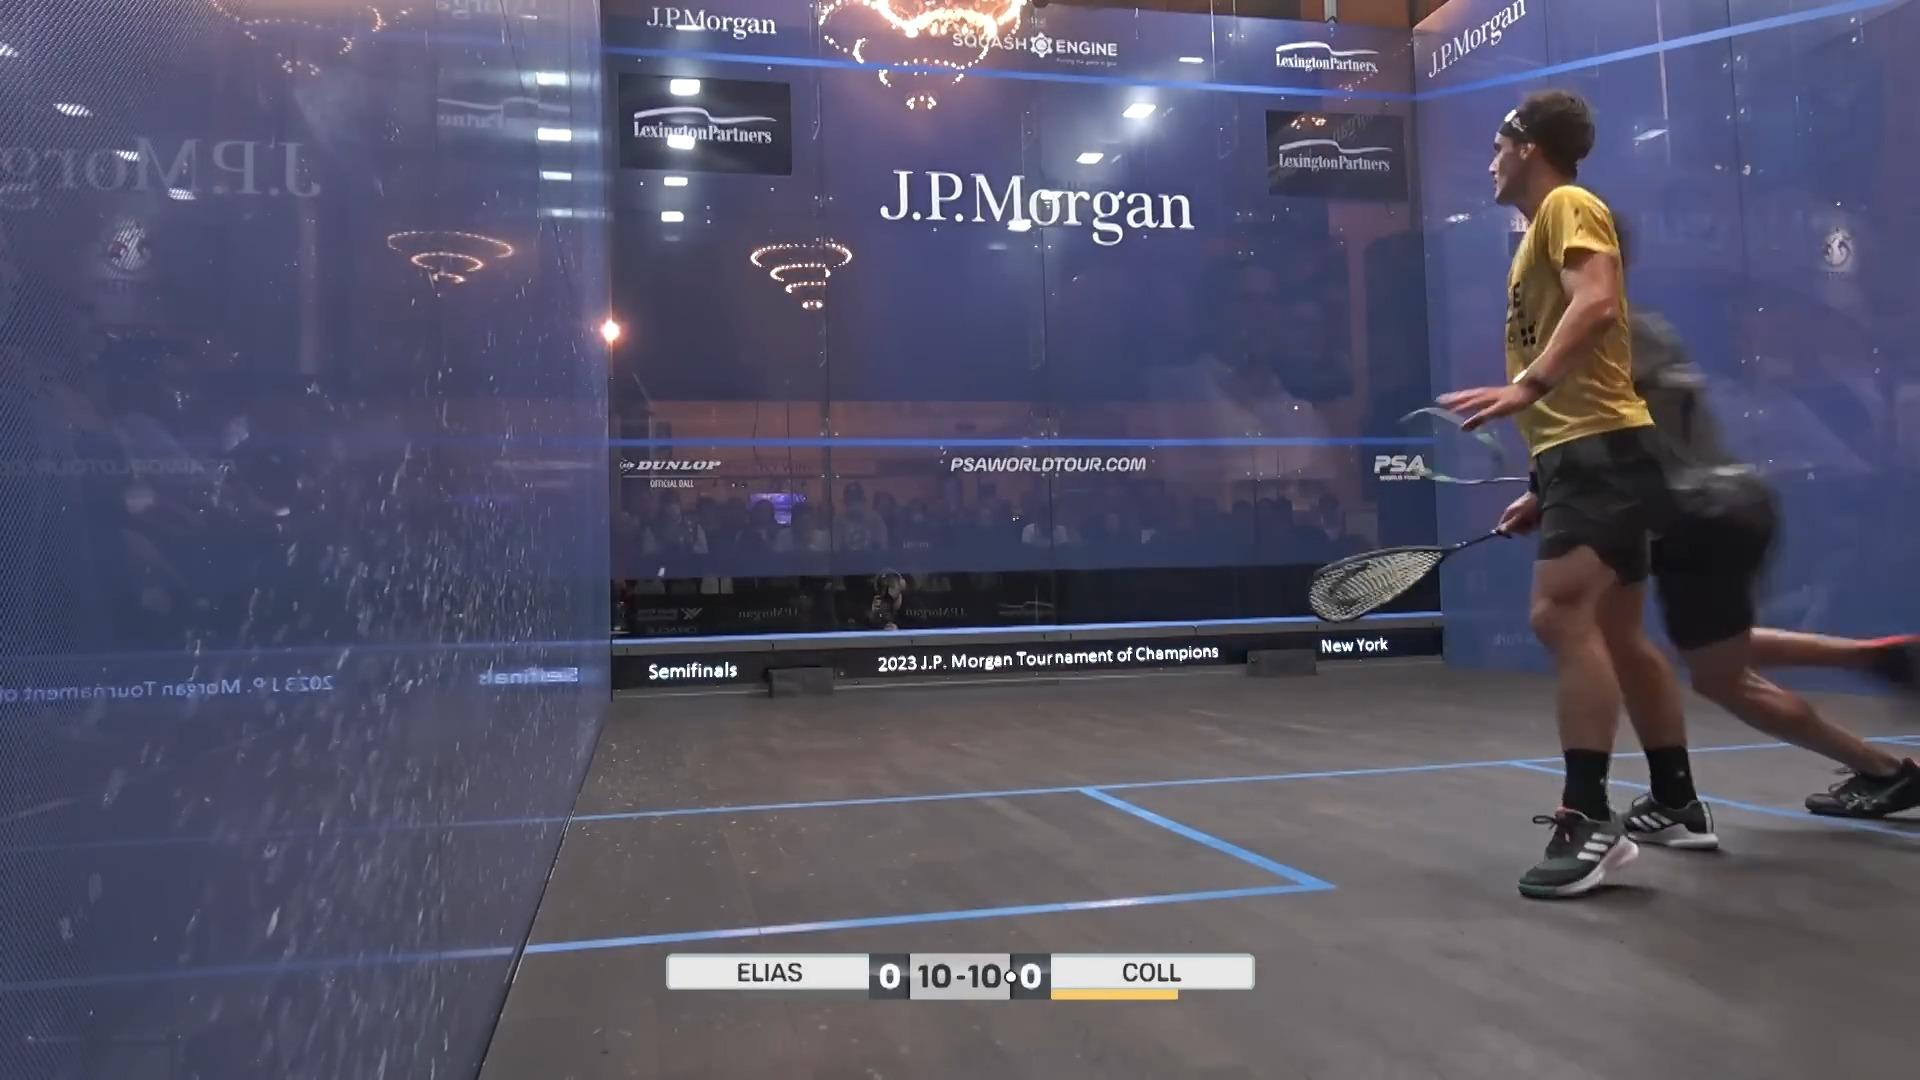Racket: (1300, 514, 1498, 632), (1411, 390, 1527, 480)
